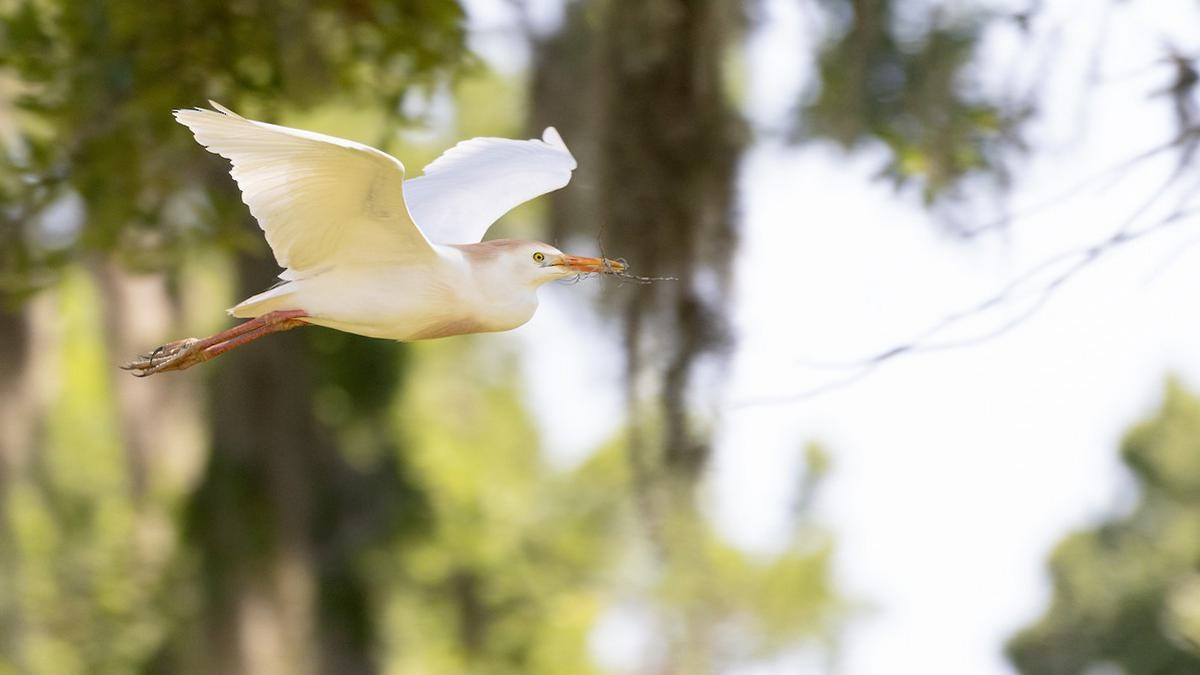egret: (138, 85, 693, 405)
